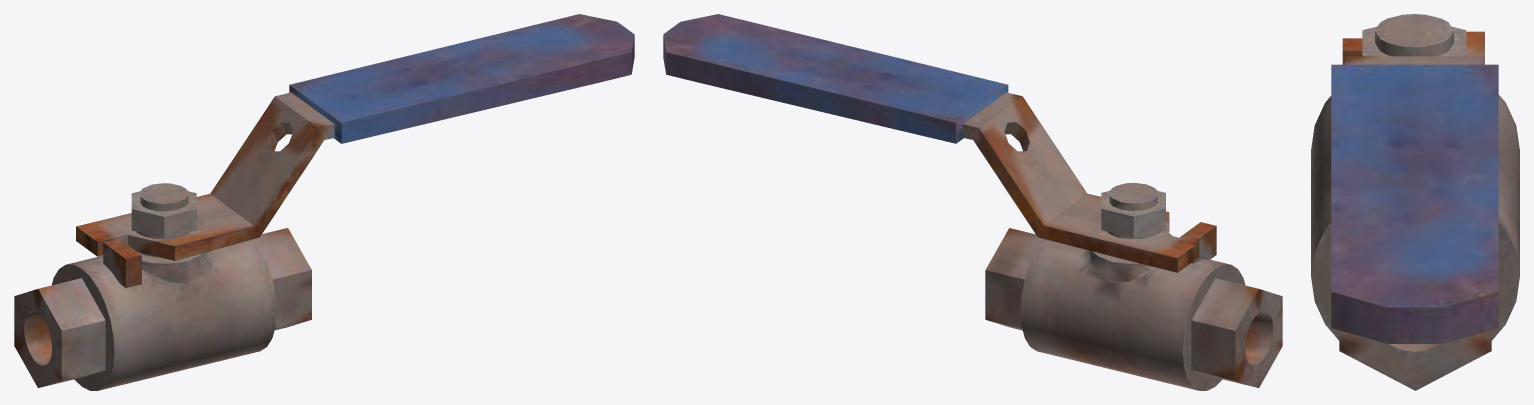
File: small_steel_pipe_12.glb
3 views of the same model, side by side, from view 1: azimuth 30°, elevation 25°; view 2: azimuth 150°, elevation 25°; view 3: azimuth 270°, elevation 25° (orthographic). The views are drawn at different scales.
Visible parts, largest first — view 1: small_steel_pipe_12; view 2: small_steel_pipe_12; view 3: small_steel_pipe_12.
Part boxes in pixels (x1,y1,x2,y2): small_steel_pipe_12: [14, 14, 634, 390]; small_steel_pipe_12: [663, 14, 1282, 390]; small_steel_pipe_12: [1311, 14, 1519, 390].
Size of what is drawn, in the model's own units: 0.1054 by 0.0388 by 0.0202.
1 material, 1 textured.
